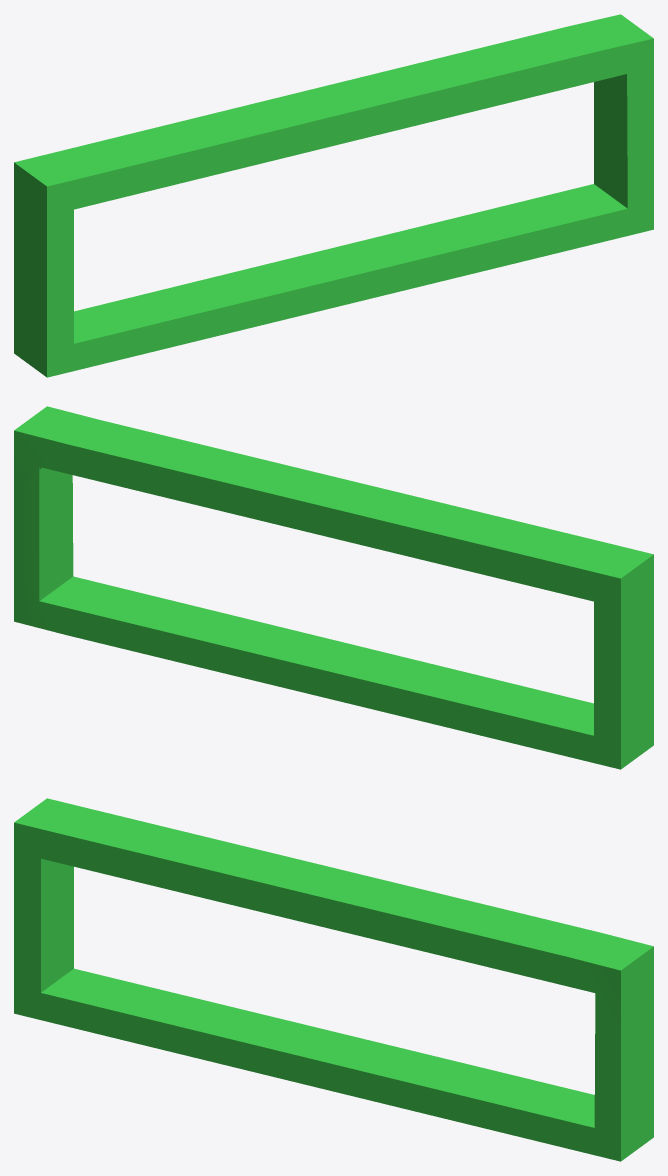
File: Boarder_Green.fbx
3 renders of one model, top to bottom at view 1: azimuth 30°, elevation 25°; view 2: azimuth 150°, elevation 25°; view 3: azimuth 330°, elevation 25°, orthographic.
Parts seen in each view (by area): view 1: Boarder; view 2: Boarder; view 3: Boarder.
Part boxes in pixels (<box>): Boarder: <box>14,14,653,377</box>; Boarder: <box>14,406,653,769</box>; Boarder: <box>14,798,653,1161</box>.
Bounding box in the file's own units: 25.18 × 2.44 × 7.58.
